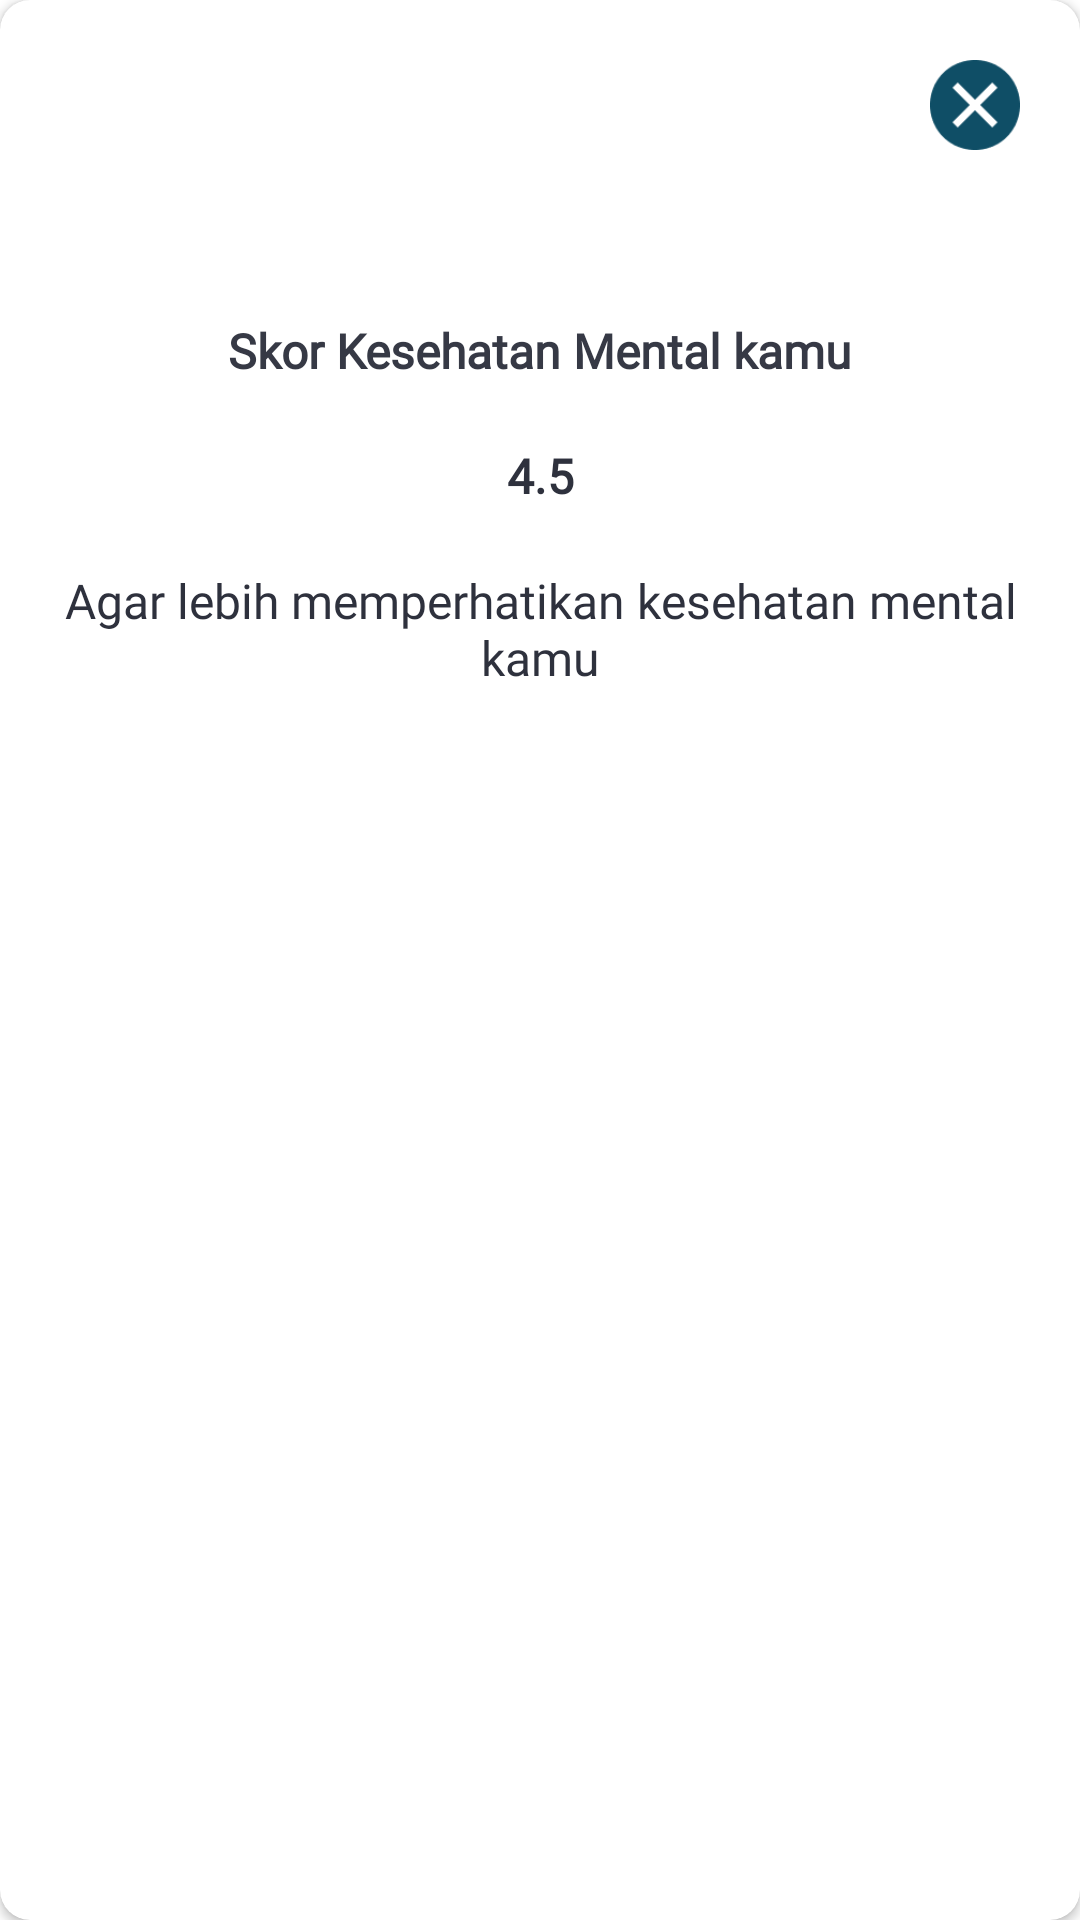

Named icons in this screenshot (1080*1920) and their bounding boxes, (x1, y1, x2, y2):
close: (930, 60, 1020, 150)
